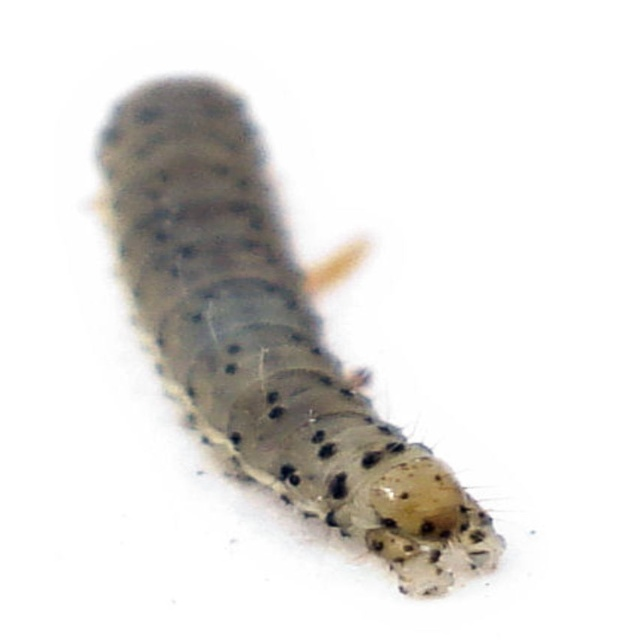Caterpillar: (86, 70, 516, 597)
